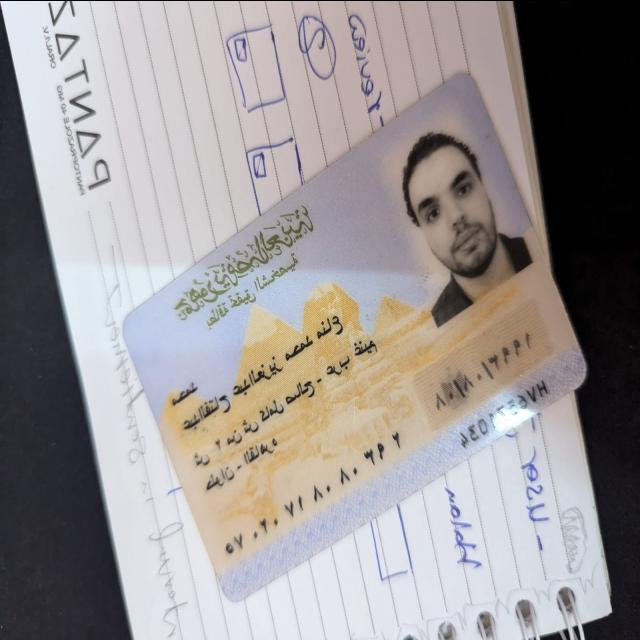ID-cards: (106, 53, 600, 616)
